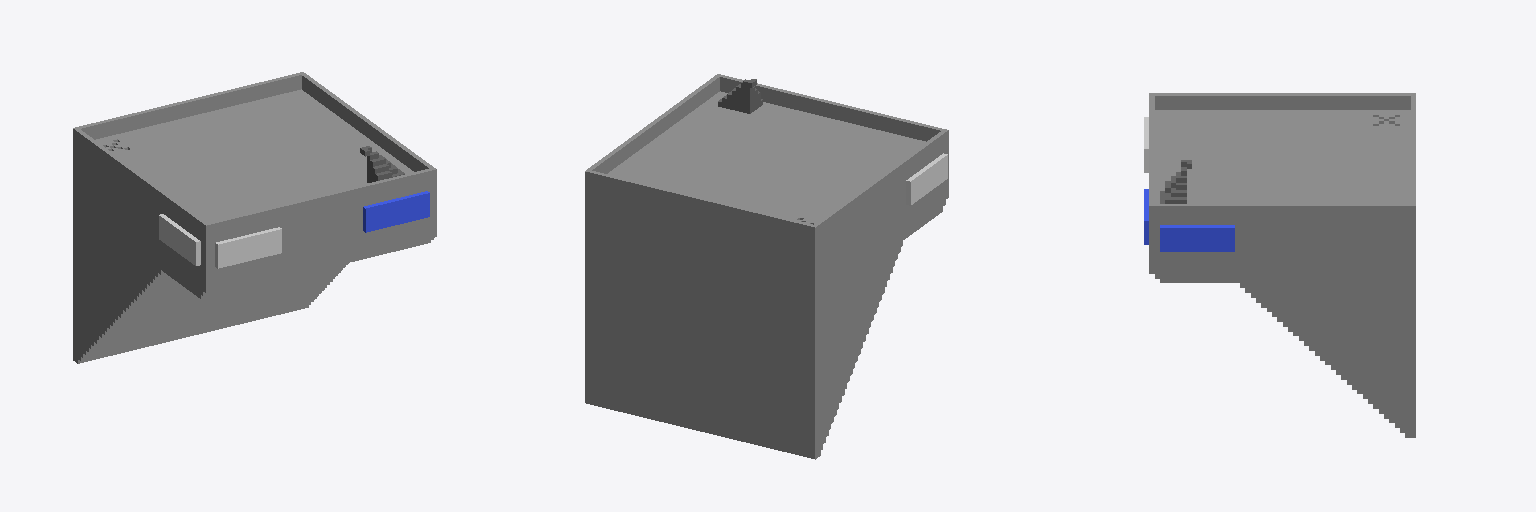
The picture shows the model from 3 angles: view 1: azimuth 30°, elevation 25°; view 2: azimuth 150°, elevation 25°; view 3: azimuth 270°, elevation 25°; orthographic projection.
Parts seen in each view (by area): view 1: object 1; view 2: object 1; view 3: object 1.
Part boxes in pixels (left/top/right/bottom): object 1: left=73, top=72, right=436, bottom=363; object 1: left=585, top=74, right=948, bottom=459; object 1: left=1144, top=93, right=1415, bottom=437.
Bounding box in the file's own units: 5.2 × 5.2 × 5.1.
Materials: 1 (1 with a texture image).